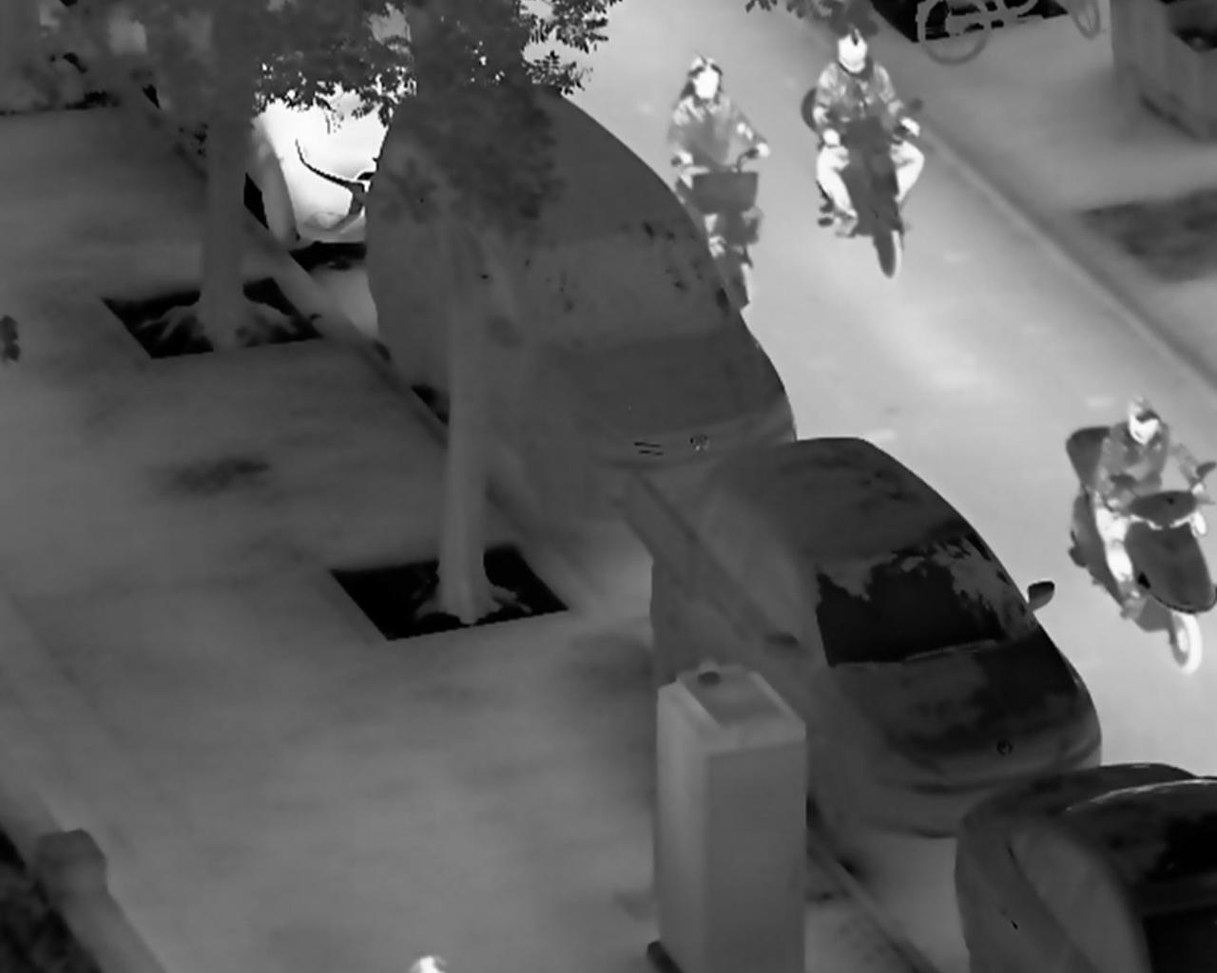person: (1088, 393, 1216, 625), (809, 25, 929, 241), (664, 54, 774, 194)
